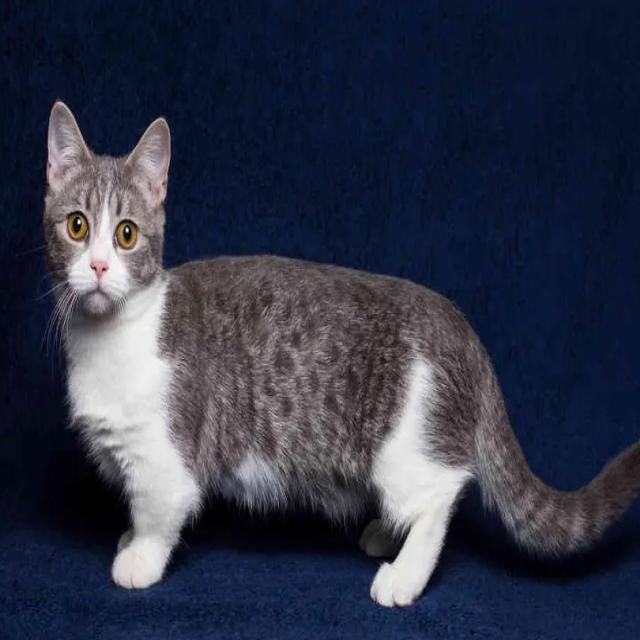Munchkin: (39, 94, 640, 610)
